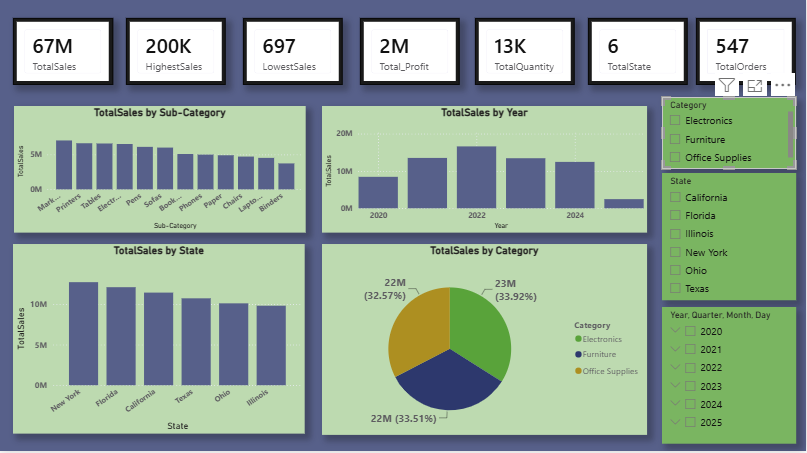

The page's visual inventory and layout, read from the dashboard file:
{"tool":"powerbi","page":{"name":"Page 1","canvas":[1280,720],"ordinal":0},"visuals":[{"type":"clusteredColumnChart","fields":{"Y":["Book1(Sheet1).TotalSales"],"Category":["Book1(Sheet1).State"]},"box":[21.3,392.2,463.2,301.2],"z":0},{"type":"pieChart","fields":{"Category":["Book1(Sheet1).Category"],"Y":["Book1(Sheet1).TotalSales"]},"box":[510.4,392.2,515.6,302.8],"z":1000},{"type":"clusteredColumnChart","fields":{"Category":["Book1(Sheet1).Sub-Category"],"Y":["Book1(Sheet1).TotalSales"]},"box":[23,172.3,463.2,201.3],"z":2000},{"type":"clusteredColumnChart","fields":{"Category":["Book1(Sheet1).Order Date.Variation.Date Hierarchy.Year"],"Y":["Book1(Sheet1).TotalSales"]},"box":[510.4,172.3,515.6,201.3],"z":3000},{"type":"cardVisual","fields":{"Data":["Book1(Sheet1).TotalSales"]},"box":[20.6,33.3,158.8,106.4],"z":4000},{"type":"cardVisual","fields":{"Data":["Book1(Sheet1).Total_Profit"]},"box":[571.4,33.3,158,106],"z":5000},{"type":"cardVisual","fields":{"Data":["Book1(Sheet1).TotalQuantity"]},"box":[754,33.3,158,106],"z":6000},{"type":"cardVisual","fields":{"Data":["Book1(Sheet1).TotalState"]},"box":[933.3,33.3,158,106],"z":7000},{"type":"cardVisual","fields":{"Data":["Book1(Sheet1).TotalOrders"]},"box":[1104.8,33.3,158,106],"z":8000},{"type":"cardVisual","fields":{"Data":["Book1(Sheet1).HighestSales"]},"box":[200,33.3,158,106],"z":9000},{"type":"cardVisual","fields":{"Data":["Book1(Sheet1).LowestSales"]},"box":[385.7,33.3,158,106],"z":10000},{"type":"slicer","fields":{"Values":["Book1(Sheet1).Category"]},"box":[1050.3,159.2,213.3,113.2],"z":10001},{"type":"slicer","fields":{"Values":["Book1(Sheet1).State"]},"box":[1050.3,279,213.3,201.8],"z":10002},{"type":"slicer","fields":{"Values":["Book1(Sheet1).Year-Month.Variation.Date Hierarchy.Year","Book1(Sheet1).Year-Month.Variation.Date Hierarchy.Quarter","Book1(Sheet1).Year-Month.Variation.Date Hierarchy.Month","Book1(Sheet1).Year-Month.Variation.Date Hierarchy.Day"]},"box":[1050.3,492.3,213.3,216.6],"z":10003}]}

Visuals, with their boxes in screenshot pixels (x1, y1, x2, y2), scaled from the page's 1280x720 canvas onto the 807x453 screenshot:
clusteredColumnChart - Book1(Sheet1).TotalSales x Book1(Sheet1).State: BBox(13, 247, 305, 436)
pieChart - Book1(Sheet1).Category x Book1(Sheet1).TotalSales: BBox(322, 247, 647, 437)
clusteredColumnChart - Book1(Sheet1).Sub-Category x Book1(Sheet1).TotalSales: BBox(15, 108, 307, 235)
clusteredColumnChart - Book1(Sheet1).Order Date.Variation.Date Hierarchy.Year x Book1(Sheet1).TotalSales: BBox(322, 108, 647, 235)
cardVisual - Book1(Sheet1).TotalSales: BBox(13, 21, 113, 88)
cardVisual - Book1(Sheet1).Total_Profit: BBox(360, 21, 460, 88)
cardVisual - Book1(Sheet1).TotalQuantity: BBox(475, 21, 575, 88)
cardVisual - Book1(Sheet1).TotalState: BBox(588, 21, 688, 88)
cardVisual - Book1(Sheet1).TotalOrders: BBox(697, 21, 796, 88)
cardVisual - Book1(Sheet1).HighestSales: BBox(126, 21, 226, 88)
cardVisual - Book1(Sheet1).LowestSales: BBox(243, 21, 343, 88)
slicer - Book1(Sheet1).Category: BBox(662, 100, 797, 171)
slicer - Book1(Sheet1).State: BBox(662, 176, 797, 303)
slicer - Book1(Sheet1).Year-Month.Variation.Date Hierarchy.Year x Book1(Sheet1).Year-Month.Variation.Date Hierarchy.Quarter: BBox(662, 310, 797, 446)
